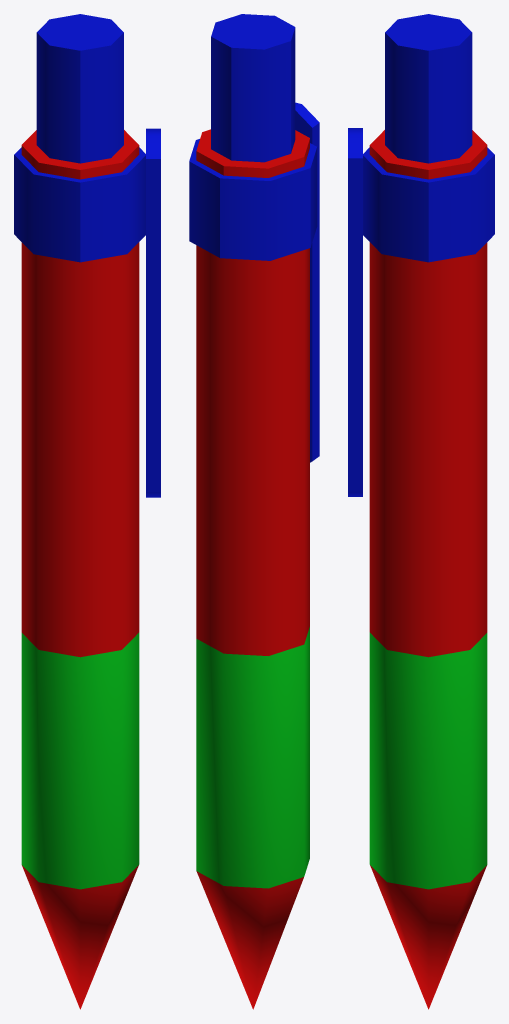
File: pen.FBX
3 renders of one model, left to right at view 1: azimuth 90°, elevation 25°; view 2: azimuth 150°, elevation 25°; view 3: azimuth 270°, elevation 25°, orthographic.
Visible parts, largest first — view 1: pen; view 2: pen; view 3: pen.
Part boxes in pixels (x1=…): pen: x1=14, y1=14, x2=160, y2=1009; pen: x1=189, y1=14, x2=319, y2=1009; pen: x1=348, y1=14, x2=494, y2=1009.
Bounding box in the file's own units: 0.018 × 0.0199 × 0.1466.
